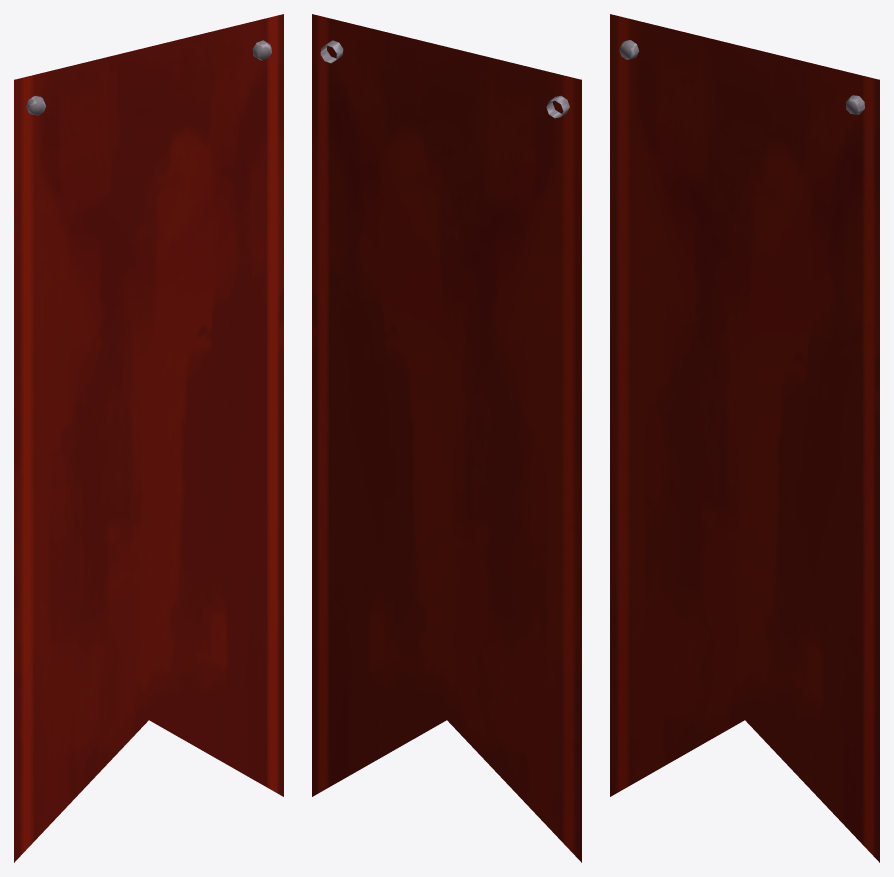
The model's file is Banner_1_Cloth.gltf.
3 renders of one model, left to right at view 1: azimuth 30°, elevation 25°; view 2: azimuth 150°, elevation 25°; view 3: azimuth 330°, elevation 25°, orthographic.
Parts seen in each view (by area): view 1: Banner_1_Cloth; view 2: Banner_1_Cloth; view 3: Banner_1_Cloth.
Part boxes in pixels (bbox=[...]): Banner_1_Cloth: bbox=[14, 14, 283, 862]; Banner_1_Cloth: bbox=[312, 14, 581, 862]; Banner_1_Cloth: bbox=[610, 14, 879, 862].
Size of the model in its own units: 0.8102 by 2.25 by 0.0568.
2 materials, 2 textured.
